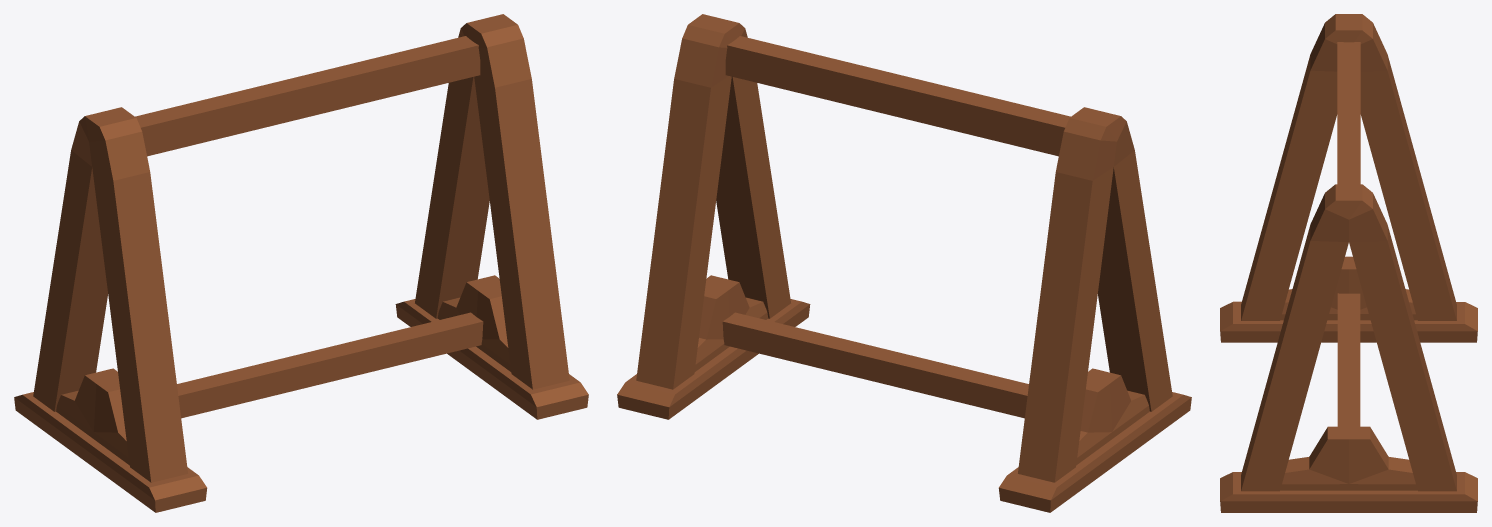
Rendered from WeaponRack_B.fbx.
The picture shows the model from 3 angles, left to right: view 1: azimuth 30°, elevation 25°; view 2: azimuth 150°, elevation 25°; view 3: azimuth 270°, elevation 25°; orthographic projection. The views are drawn at different scales.
Parts seen in each view (by area): view 1: WeaponRack_B; view 2: WeaponRack_B; view 3: WeaponRack_B.
Boxes of the visible parts, x1,y1,x2,y2 form: WeaponRack_B: (14,14,588,512); WeaponRack_B: (617,14,1191,512); WeaponRack_B: (1220,14,1477,512).
Size of the model in its own units: 151 by 112 by 84.92.
